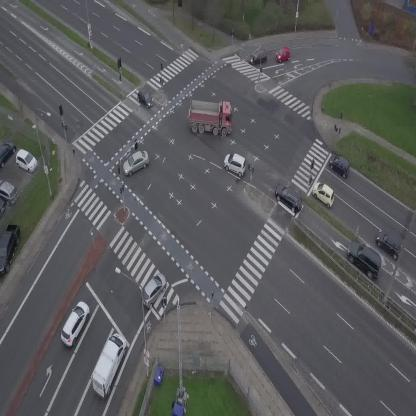car: (339, 236, 389, 282), (57, 299, 95, 348), (136, 270, 172, 310), (270, 179, 307, 216), (372, 227, 408, 261), (118, 148, 153, 177), (308, 178, 340, 209), (220, 150, 250, 178), (325, 151, 354, 178), (134, 89, 156, 110), (247, 49, 269, 66), (273, 46, 292, 63)
lorry: (85, 330, 131, 400), (188, 99, 234, 136)
